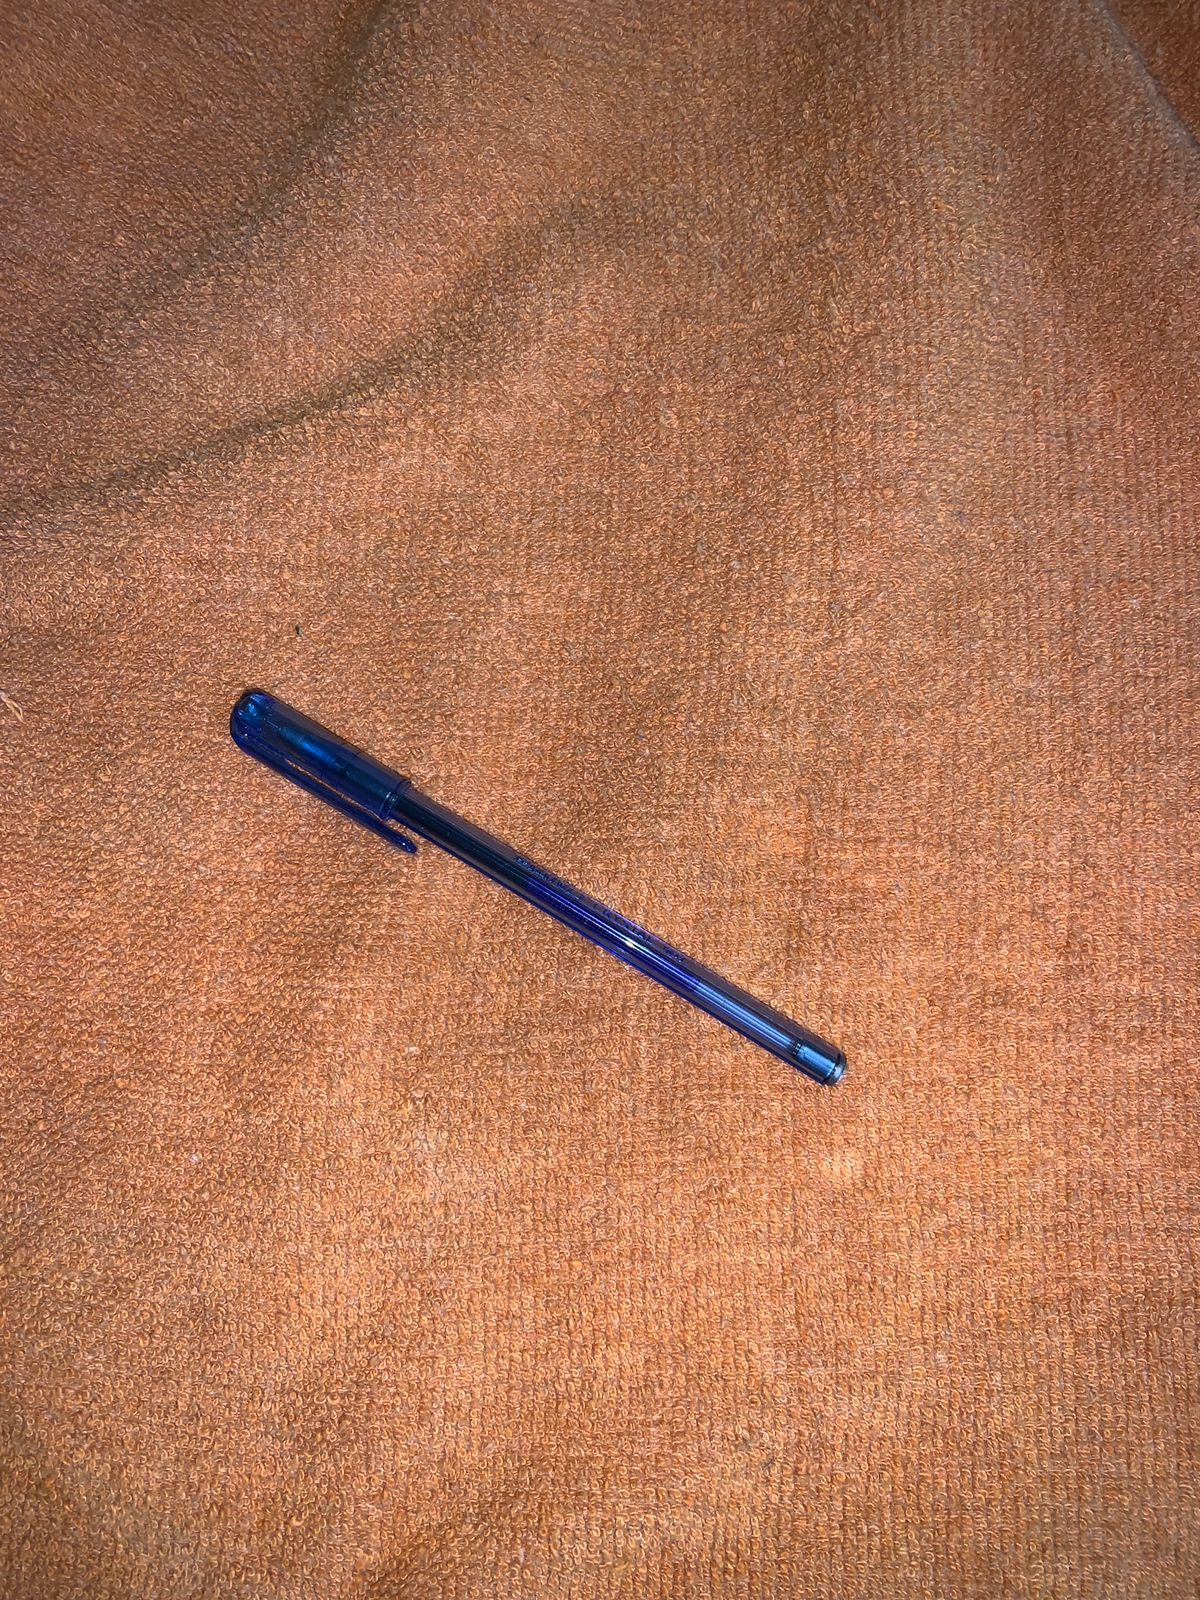pen: (158, 639, 966, 1162)
